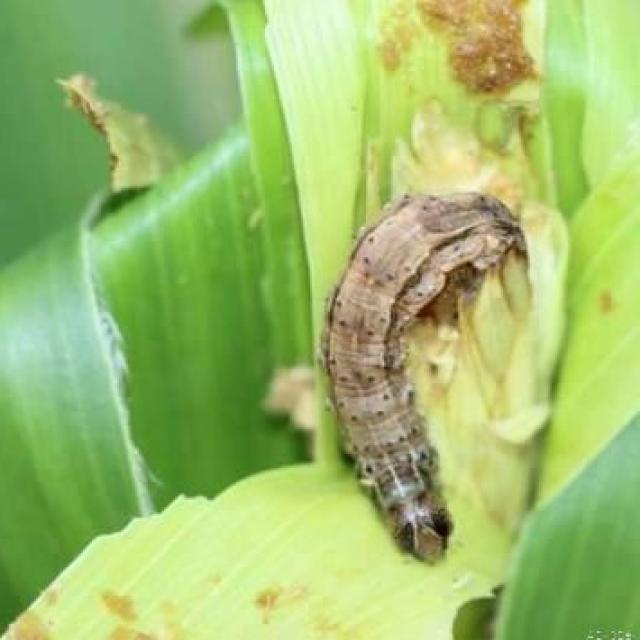worm: (316, 187, 533, 565)
